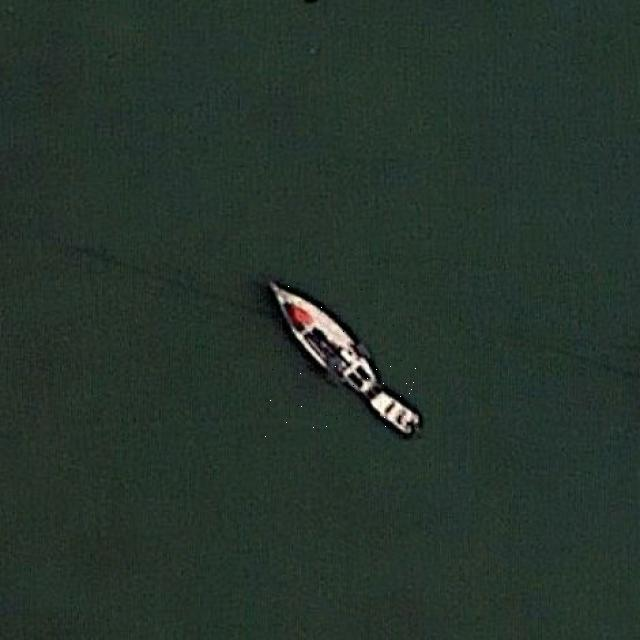boat: (263, 272, 419, 438)
